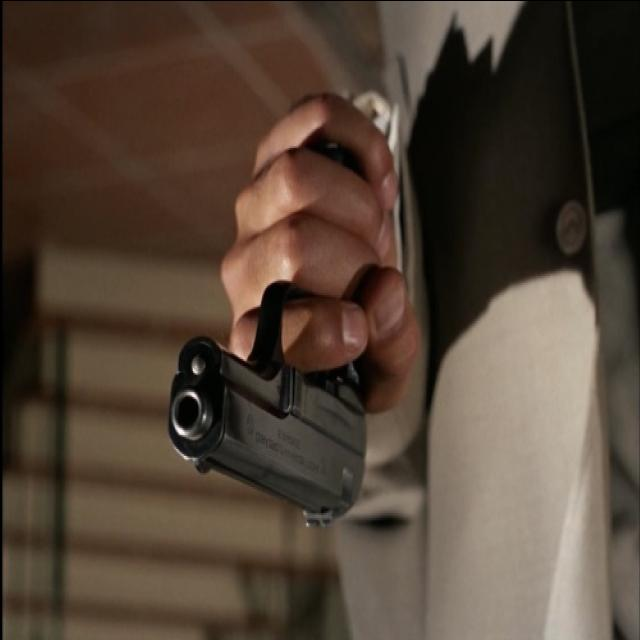weapons: (138, 217, 382, 563)
